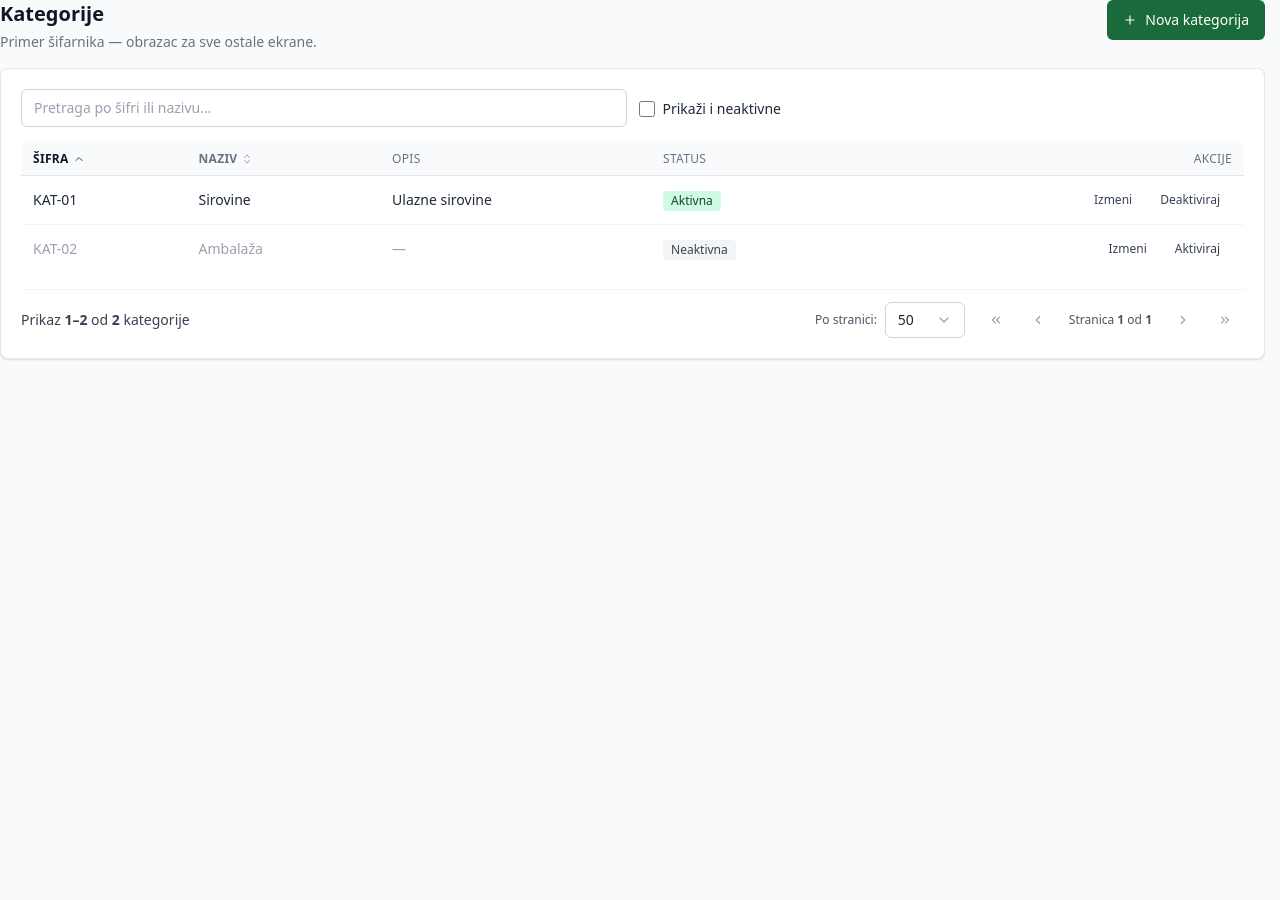
it: KategorijePage — prava i akcije › deaktivacija traži potvrdu, pa šalje POST /deaktiviraj i prikazuje toast
Expected: the text "Sirovine" is shown, [186,176,380,224]
Click the button "Deaktiviraj" at (1190, 200), box [1148,184,1232,216]
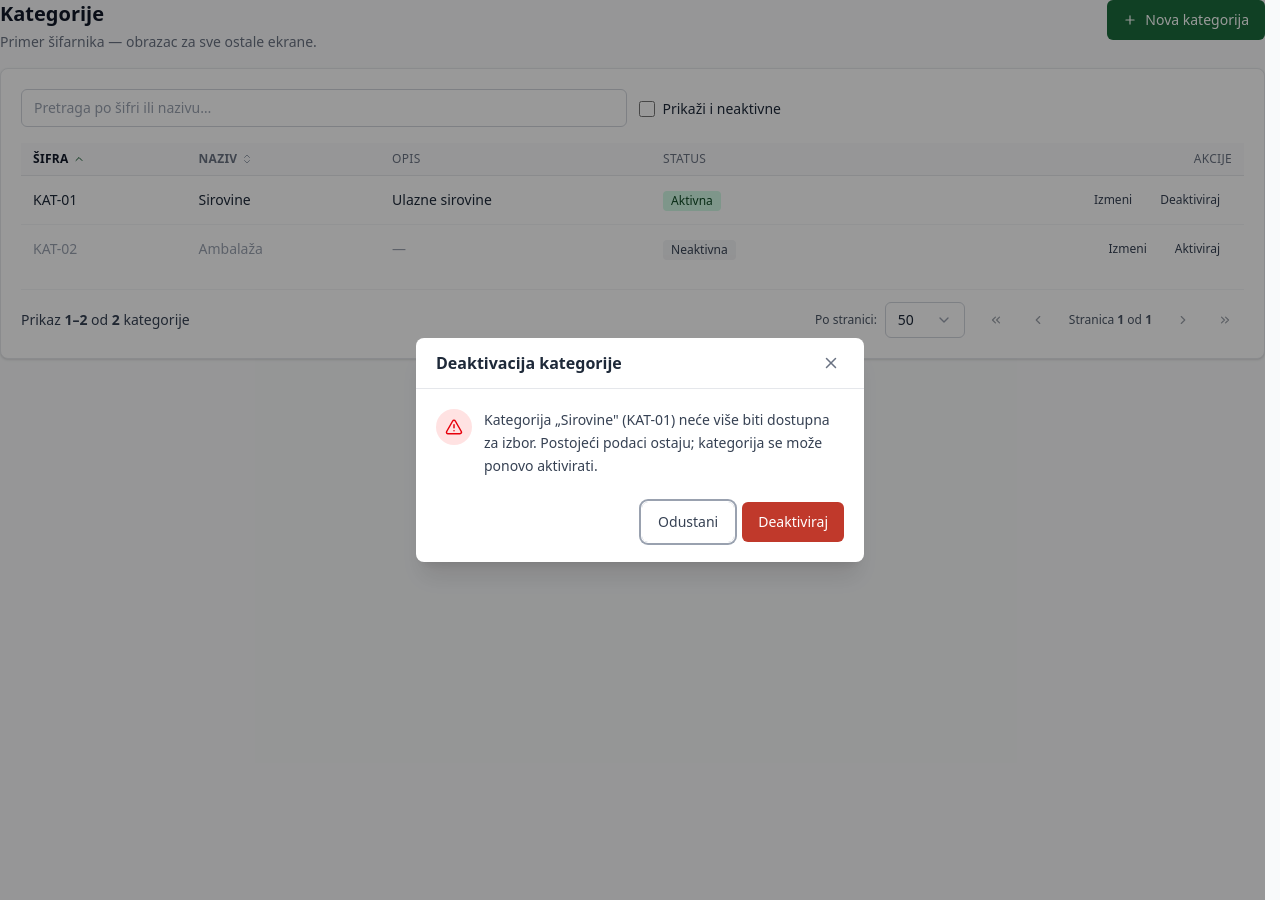
Now the dialog "Deaktivacija kategorije" shows "Sirovine", box [484,410,830,475]
Click the button "Deaktiviraj" at (793, 522), box [742,502,844,542]
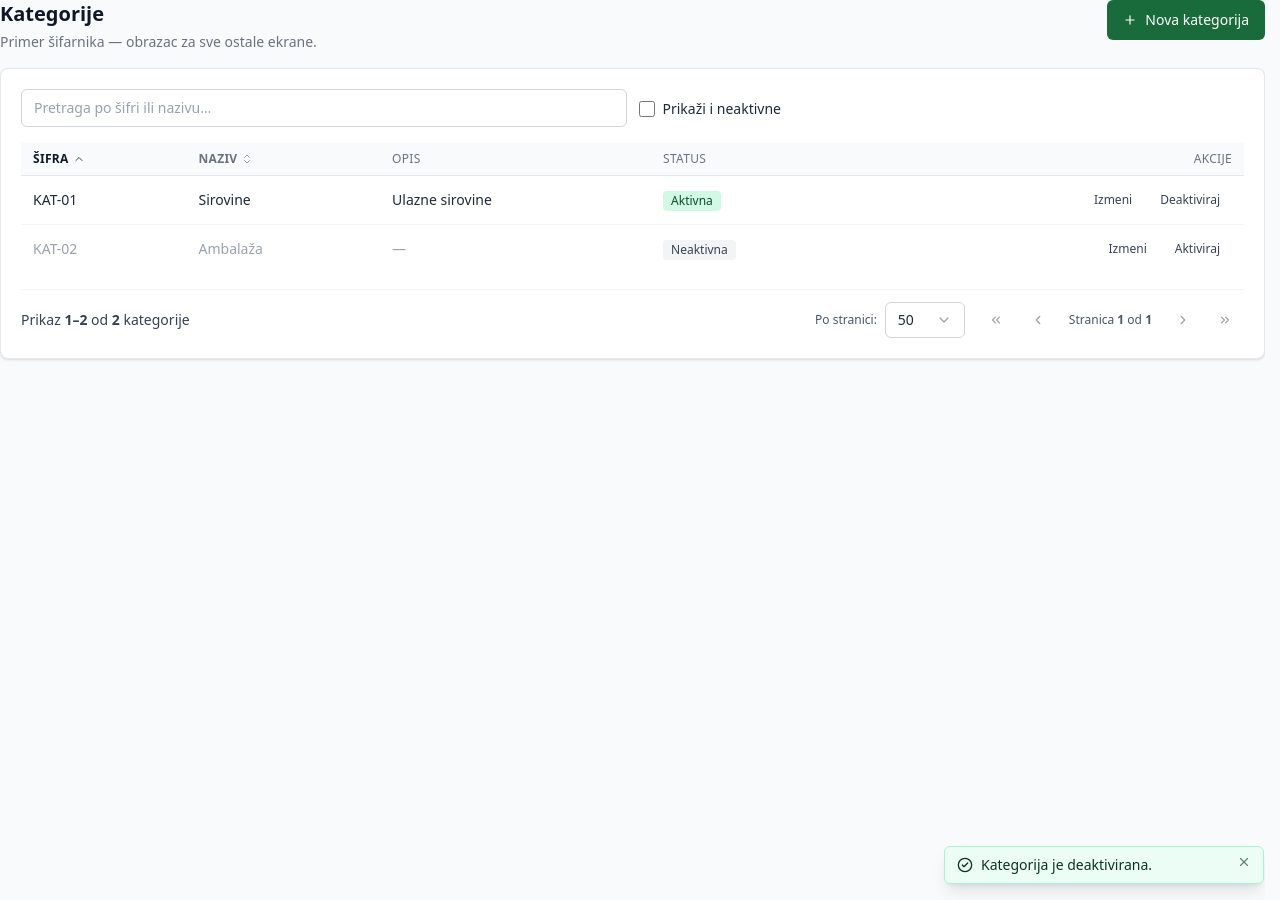
Now the text "Kategorija je deaktivirana." is shown, box [981,855,1152,874]
